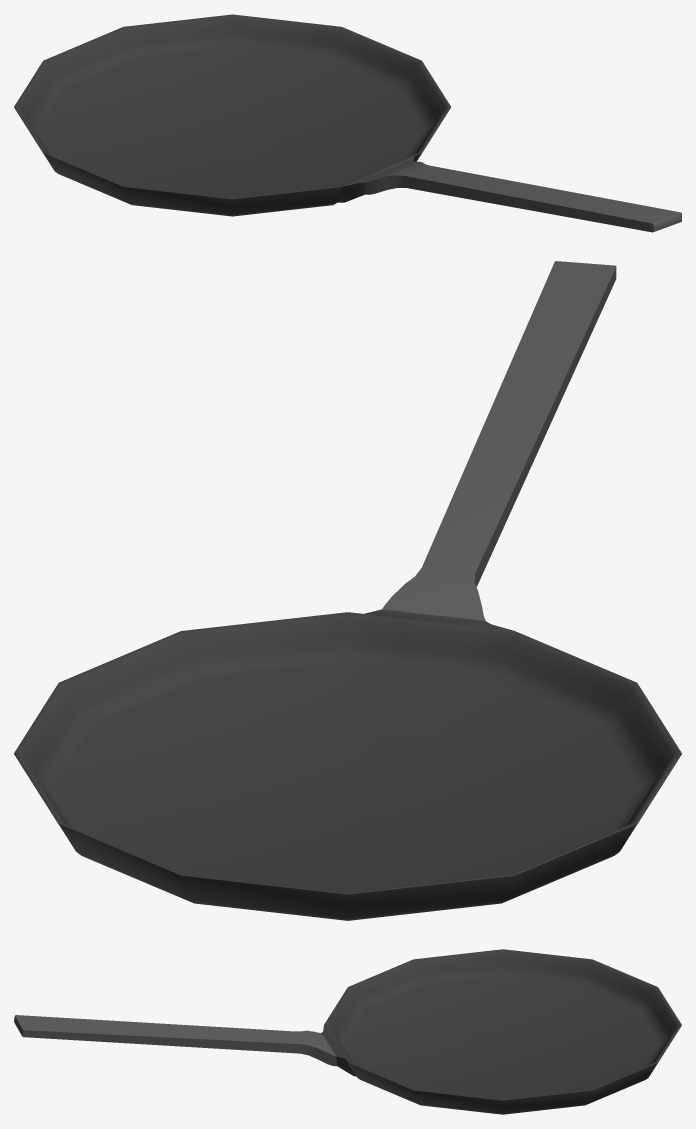
Rendered from Large Frying Pan.fbx.
3 views of the same model, one above another, from view 1: azimuth 30°, elevation 25°; view 2: azimuth 150°, elevation 25°; view 3: azimuth 270°, elevation 25° (orthographic). The views are drawn at different scales.
Parts seen in each view (by area): view 1: Large Frying Pan; view 2: Large Frying Pan; view 3: Large Frying Pan.
Boxes of the visible parts, x1=… form: Large Frying Pan: x1=14, y1=14, x2=681, y2=232; Large Frying Pan: x1=14, y1=261, x2=681, y2=920; Large Frying Pan: x1=14, y1=949, x2=681, y2=1114.
Size of the model in its own units: 38.98 by 9.6 by 72.73.
